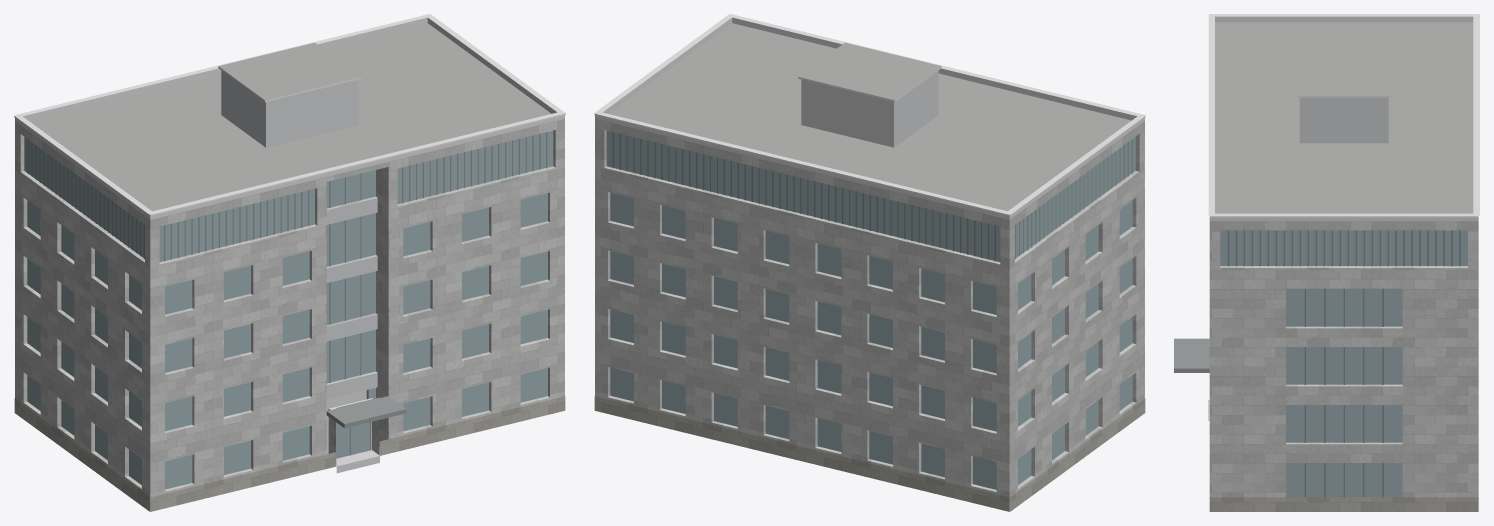
3 renders of one model, left to right at view 1: azimuth 30°, elevation 25°; view 2: azimuth 150°, elevation 25°; view 3: azimuth 270°, elevation 25°, orthographic.
Visible parts, largest first — view 1: b115951757__wall, b115951757__glass, b115951757__roof, b115951757__base, b115951757__wall2, b115951757__frame, b115951757__trim, b115951757__parapet, b115951757__spandrel, b115951757__canopy, b115951757__entranceThreshold_0; view 2: b115951757__wall, b115951757__glass, b115951757__roof, b115951757__base, b115951757__wall2, b115951757__frame, b115951757__trim, b115951757__parapet; view 3: b115951757__wall, b115951757__roof, b115951757__glass, b115951757__trim, b115951757__wall2, b115951757__base, b115951757__frame, b115951757__parapet, b115951757__canopy.
Part boxes in pixels (<box>): b115951757__wall: <box>15,119,564,511</box>; b115951757__glass: <box>24,130,553,489</box>; b115951757__roof: <box>28,23,551,511</box>; b115951757__base: <box>14,396,565,511</box>; b115951757__wall2: <box>221,70,358,147</box>; b115951757__frame: <box>27,132,547,455</box>; b115951757__trim: <box>14,14,565,216</box>; b115951757__parapet: <box>15,17,564,219</box>; b115951757__spandrel: <box>326,198,377,399</box>; b115951757__canopy: <box>326,396,406,428</box>; b115951757__entranceThreshold_0: <box>336,450,379,473</box>; b115951757__wall: <box>595,119,1144,511</box>; b115951757__glass: <box>606,130,1135,489</box>; b115951757__roof: <box>608,23,1131,511</box>; b115951757__base: <box>594,396,1145,511</box>; b115951757__wall2: <box>801,70,938,147</box>; b115951757__frame: <box>612,132,1132,261</box>; b115951757__trim: <box>594,14,1145,216</box>; b115951757__parapet: <box>595,17,1144,219</box>; b115951757__wall: <box>1209,221,1478,497</box>; b115951757__roof: <box>1215,22,1473,213</box>; b115951757__glass: <box>1220,230,1467,497</box>; b115951757__trim: <box>1208,14,1479,217</box>; b115951757__wall2: <box>1299,97,1388,143</box>; b115951757__base: <box>1209,497,1478,511</box>; b115951757__frame: <box>1227,230,1460,497</box>; b115951757__parapet: <box>1209,16,1478,221</box>; b115951757__canopy: <box>1174,338,1209,372</box>.
Size of the model in its own units: 26.91 by 21.4 by 17.19.
12 materials, 2 textured.
